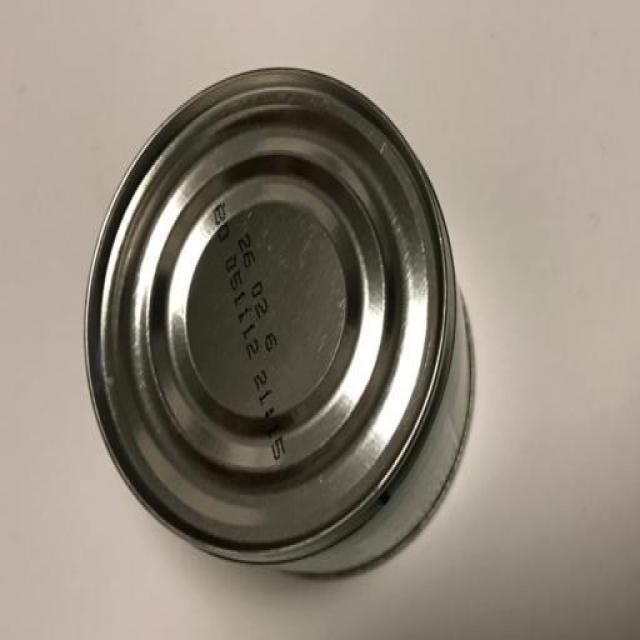metel: (96, 101, 476, 543)
